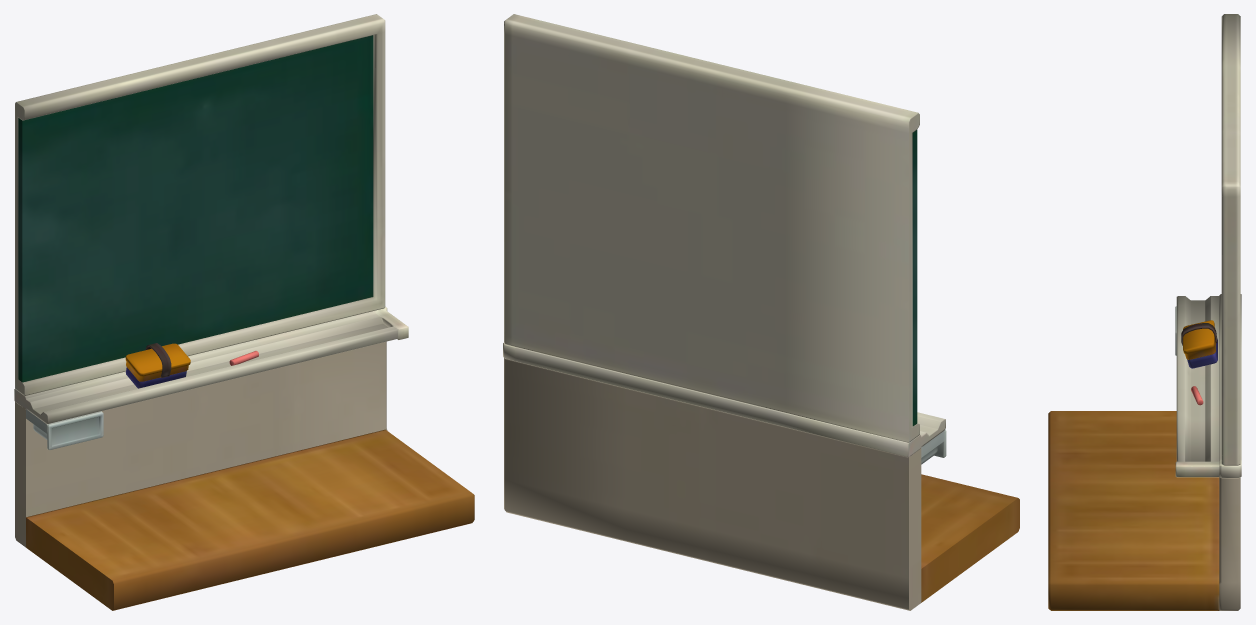
3 renders of one model, left to right at view 1: azimuth 30°, elevation 25°; view 2: azimuth 150°, elevation 25°; view 3: azimuth 270°, elevation 25°, orthographic. The views are drawn at different scales.
Size of the model in its own units: 19.04 by 22 by 9.04.
Materials: 1 (1 with a texture image).
